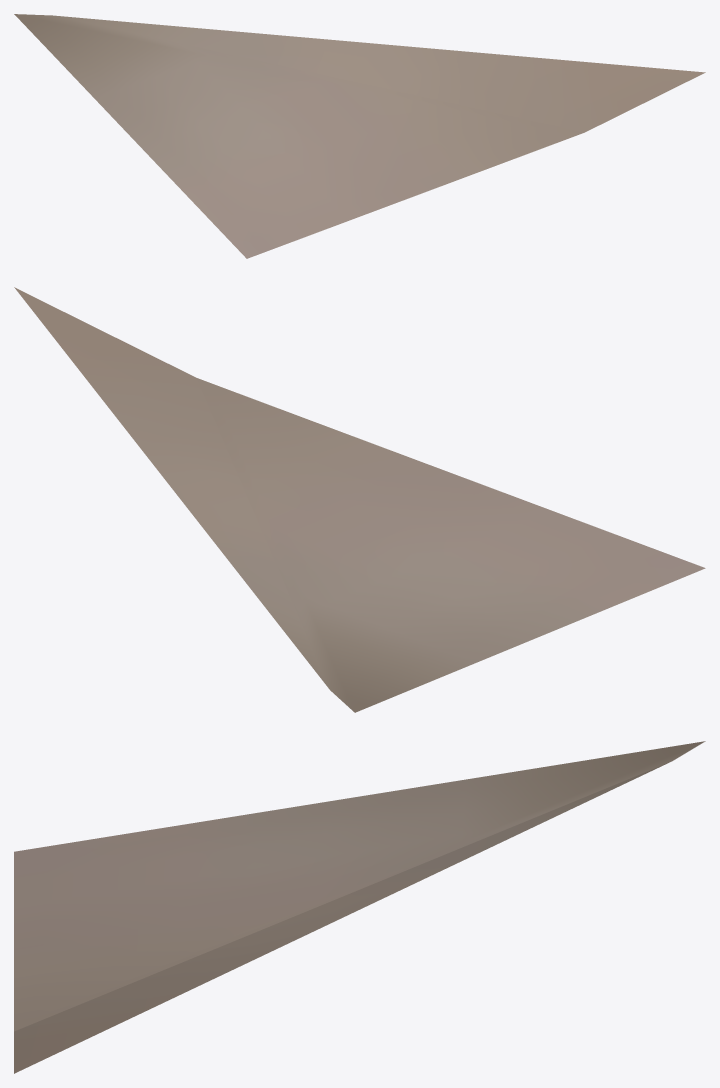
3 renders of one model, top to bottom at view 1: azimuth 30°, elevation 25°; view 2: azimuth 150°, elevation 25°; view 3: azimuth 270°, elevation 25°, orthographic. The views are drawn at different scales.
Size of the model in its own units: 0.0361 by 0.0056 by 0.0317.
1 material, 1 textured.
